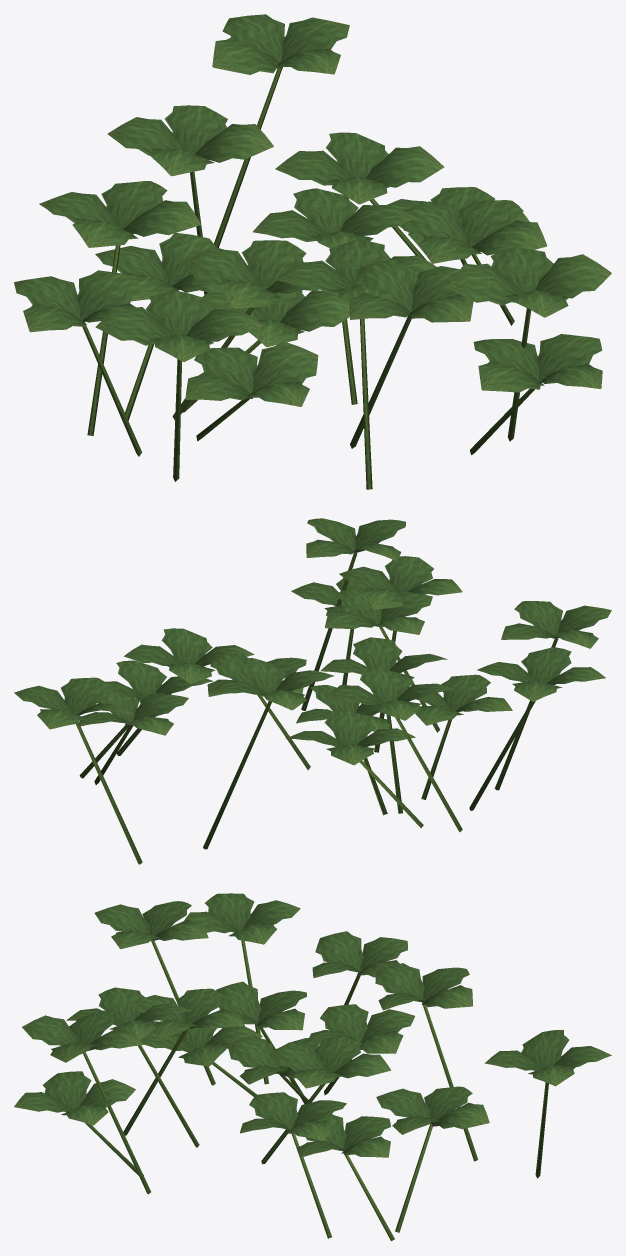
Rendered from GroundIvy_C.fbx.
3 views of the same model, one above another, from view 1: azimuth 30°, elevation 25°; view 2: azimuth 150°, elevation 25°; view 3: azimuth 270°, elevation 25° (orthographic). The views are drawn at different scales.
Visible parts, largest first — view 1: GroundIvy_C_LOD0; view 2: GroundIvy_C_LOD0; view 3: GroundIvy_C_LOD0.
Boxes of the visible parts, x1=… form: GroundIvy_C_LOD0: x1=14, y1=14, x2=611, y2=489; GroundIvy_C_LOD0: x1=14, y1=518, x2=611, y2=864; GroundIvy_C_LOD0: x1=14, y1=893, x2=611, y2=1241.
Size of what is drawn, in the model's own units: 27.05 by 9.7 by 32.56.
1 material, 1 textured.
